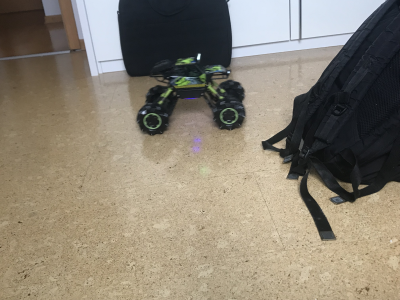remote control car: (135, 52, 248, 136)
